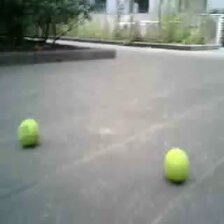tennis: (165, 148, 188, 182), (18, 120, 38, 146)
